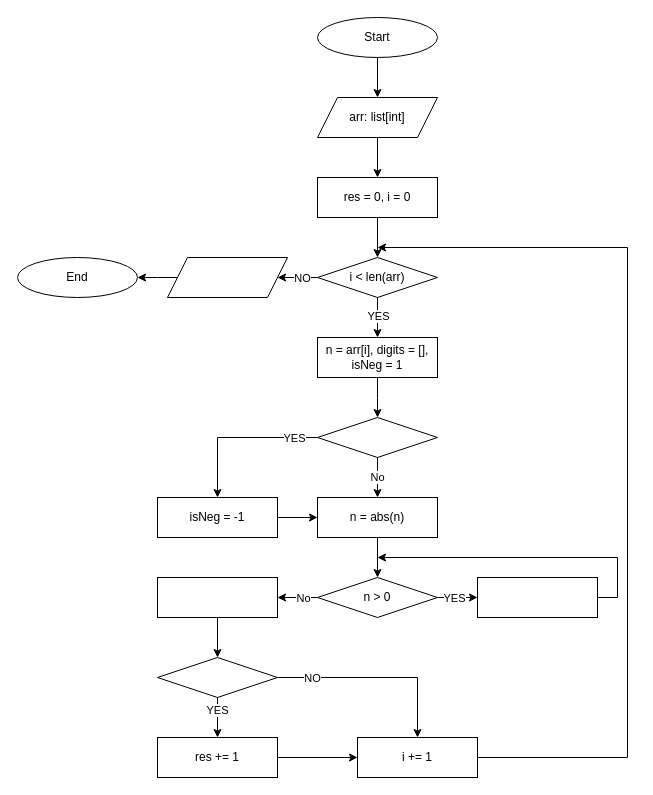
Some shapes in this 653 by 795 pixel diagram are drawn without their labels. Each missing label, with the box of its shape:
digits.append(n%10), n = n // 10: (476, 576, 598, 618)
digits[-1] *= isNeg: (156, 576, 278, 618)
n < 0: (316, 416, 438, 458)
res: (166, 256, 288, 298)
sum(digits) > 0: (156, 656, 278, 698)
